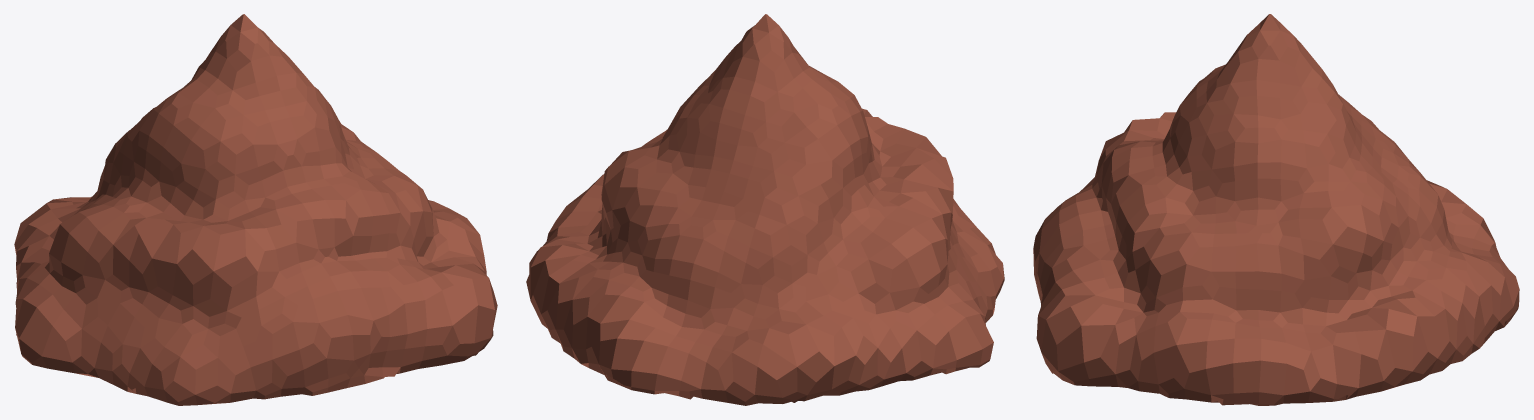
The model's file is turd.glb.
3 renders of one model, left to right at view 1: azimuth 30°, elevation 25°; view 2: azimuth 150°, elevation 25°; view 3: azimuth 270°, elevation 25°, orthographic.
Visible parts, largest first — view 1: Cone; view 2: Cone; view 3: Cone.
Boxes of the visible parts, box(x1,y1,x2,y2) form: Cone: box(14, 14, 497, 405); Cone: box(526, 14, 1004, 405); Cone: box(1033, 14, 1519, 405).
Bounding box in the file's own units: 3.08 × 2.05 × 3.
1 material, 1 textured.
